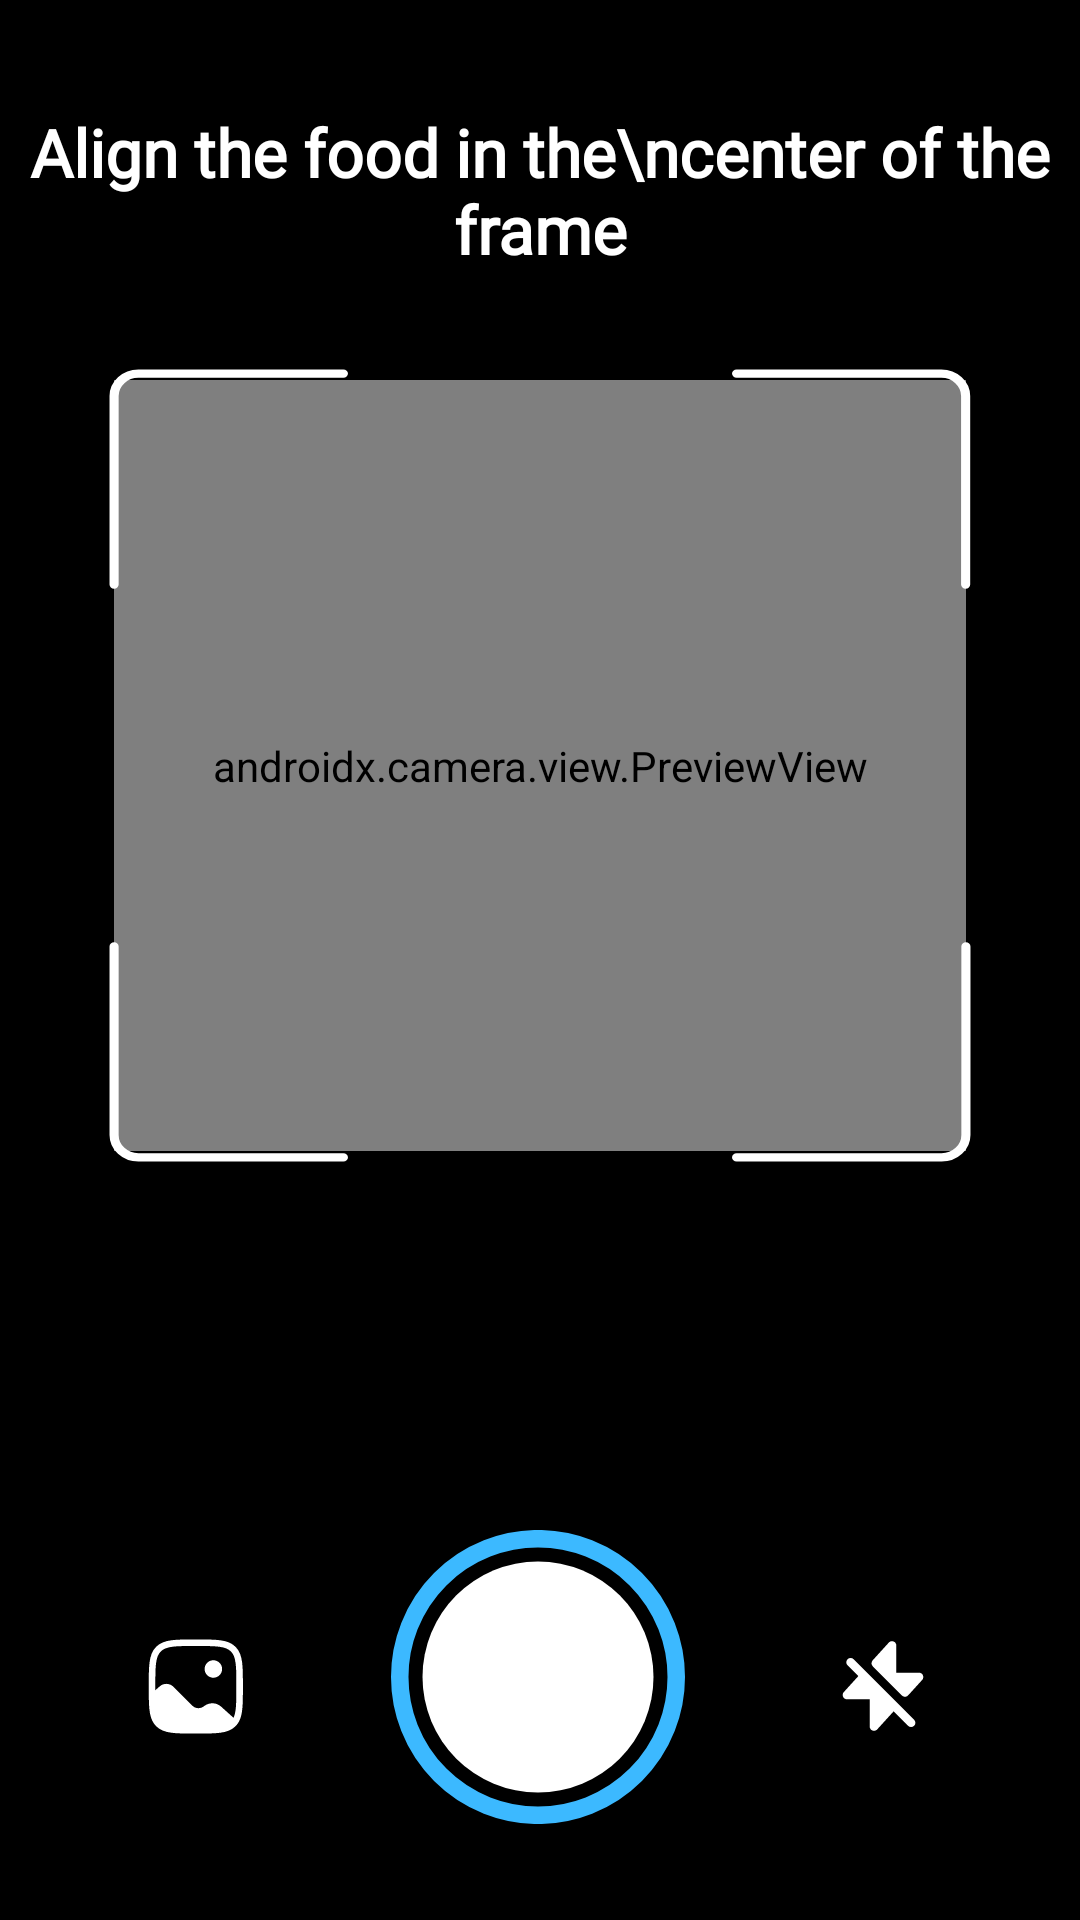

Icon click points for this 1080x1920 phone screenshot, format (x,y):
flash off: (883,1686)
gallery: (195,1686)
